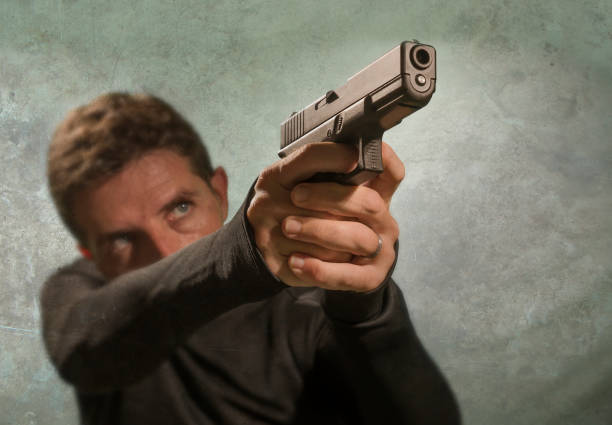gun: (276, 35, 438, 185)
